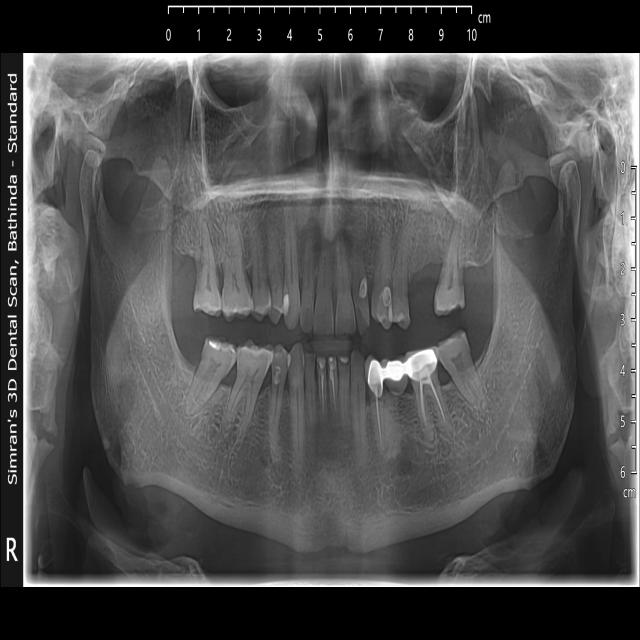Crown: (403, 346, 439, 383), (381, 358, 409, 396), (364, 359, 384, 396)
Filling: (196, 259, 203, 293), (381, 284, 390, 306), (360, 276, 366, 300)
Mandibular Canal: (122, 299, 281, 487), (417, 305, 539, 487)
Missing teeth: (409, 263, 446, 321)
Root Canal Treatment: (426, 374, 445, 428), (374, 391, 383, 449), (419, 380, 428, 437), (332, 371, 336, 422), (321, 368, 324, 417)
maxillary sinus: (380, 76, 485, 226), (190, 79, 305, 209)
